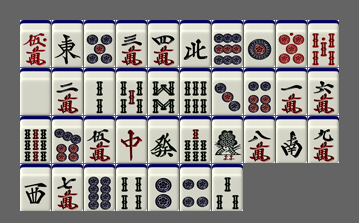0m: (20, 20, 51, 67)
0p: (276, 20, 307, 67)
0s: (308, 20, 339, 67)
1m: (276, 68, 307, 115)
1p: (244, 20, 275, 67)
1s: (212, 116, 243, 163)
1z: (52, 20, 83, 67)
2m: (52, 68, 83, 115)
2p: (148, 164, 179, 211)
2s: (84, 68, 115, 115)
2z: (276, 116, 307, 163)
3m: (116, 20, 147, 67)
3p: (212, 68, 243, 115)
3s: (212, 164, 243, 211)
3z: (20, 164, 51, 211)
4m: (148, 20, 179, 67)
4p: (180, 164, 211, 211)
4s: (116, 164, 147, 211)
4z: (180, 20, 211, 67)
5m: (84, 116, 115, 163)
5p: (84, 20, 115, 67)
5s: (116, 68, 147, 115)
5z: (20, 68, 51, 115)
6m: (308, 68, 339, 115)
6p: (244, 68, 275, 115)
6s: (180, 68, 211, 115)
6z: (148, 116, 179, 163)
7m: (52, 164, 83, 211)
7p: (52, 116, 83, 163)
7s: (180, 116, 211, 163)
7z: (116, 116, 147, 163)
8m: (244, 116, 275, 163)
8p: (84, 164, 115, 211)
8s: (148, 68, 179, 115)
9m: (308, 116, 339, 163)
9p: (212, 20, 243, 67)
9s: (20, 116, 51, 163)
